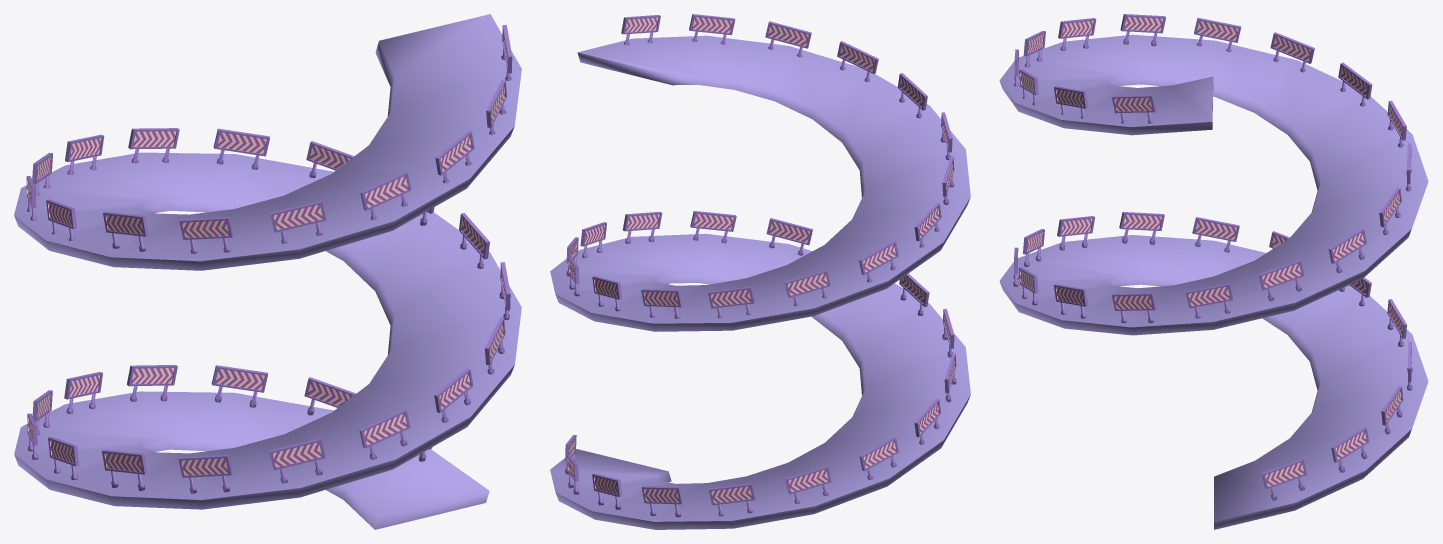
File: modulo redondo.fbx
3 renders of one model, left to right at view 1: azimuth 30°, elevation 25°; view 2: azimuth 150°, elevation 25°; view 3: azimuth 270°, elevation 25°, orthographic. The views are drawn at different scales.
Parts seen in each view (by area): view 1: Sphere.002, Cube.003, Cube.011, Cube.019, Cube.010, Cube.027, Cube.026, Cube.012, Cube.004, Cube.028, Cube.020, Cube.009 (+12 smaller); view 2: Sphere.002, Cube.005, Cube.013, Cube.014, Cube.006, Cube.021, Cube.029, Cube.022, Cube.030, Cube.004, Cube.028, Cube.020 (+11 smaller); view 3: Sphere.002, Cube.016, Cube.008, Cube.001, Cube.009, Cube.017, Cube.024, Cube.025, Cube.015, Cube.023, Cube.031, Cube.002 (+11 smaller).
Boxes of the visible parts, x1=… form: Sphere.002: x1=14, y1=14, x2=521, y2=529; Cube.003: x1=211, y1=365, x2=268, y2=407; Cube.011: x1=269, y1=438, x2=325, y2=483; Cube.019: x1=213, y1=128, x2=269, y2=169; Cube.010: x1=178, y1=455, x2=232, y2=493; Cube.027: x1=270, y1=201, x2=326, y2=243; Cube.026: x1=179, y1=217, x2=233, y2=253; Cube.012: x1=359, y1=409, x2=410, y2=459; Cube.004: x1=127, y1=365, x2=177, y2=401; Cube.028: x1=360, y1=171, x2=411, y2=220; Cube.020: x1=128, y1=128, x2=179, y2=163; Cube.009: x1=102, y1=449, x2=147, y2=490; Sphere.002: x1=550, y1=35, x2=970, y2=529; Cube.005: x1=708, y1=483, x2=755, y2=516; Cube.013: x1=766, y1=218, x2=812, y2=255; Cube.014: x1=690, y1=211, x2=736, y2=243; Cube.006: x1=785, y1=466, x2=831, y2=503; Cube.021: x1=708, y1=287, x2=754, y2=318; Cube.029: x1=765, y1=21, x2=811, y2=57; Cube.022: x1=784, y1=270, x2=830, y2=306; Cube.030: x1=689, y1=14, x2=735, y2=44; Cube.004: x1=641, y1=486, x2=683, y2=517; Cube.028: x1=837, y1=41, x2=878, y2=81; Cube.020: x1=641, y1=289, x2=682, y2=318; Sphere.002: x1=999, y1=34, x2=1428, y2=529; Cube.016: x1=1185, y1=283, x2=1232, y2=318; Cube.008: x1=1192, y1=217, x2=1239, y2=252; Cube.001: x1=1261, y1=458, x2=1306, y2=500; Cube.009: x1=1119, y1=212, x2=1164, y2=244; Cube.017: x1=1258, y1=260, x2=1304, y2=301; Cube.024: x1=1194, y1=17, x2=1241, y2=52; Cube.025: x1=1120, y1=14, x2=1165, y2=46; Cube.015: x1=1112, y1=293, x2=1156, y2=323; Cube.023: x1=1270, y1=32, x2=1314, y2=72; Cube.031: x1=1112, y1=95, x2=1156, y2=123; Cube.002: x1=1331, y1=427, x2=1369, y2=472.
Bounding box in the file's own units: 4343 × 4767 × 4343.
